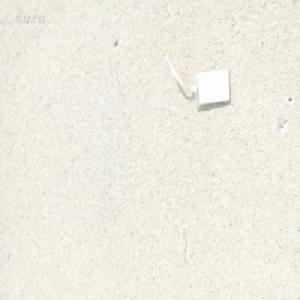LuggageTag: (158, 51, 231, 112)
